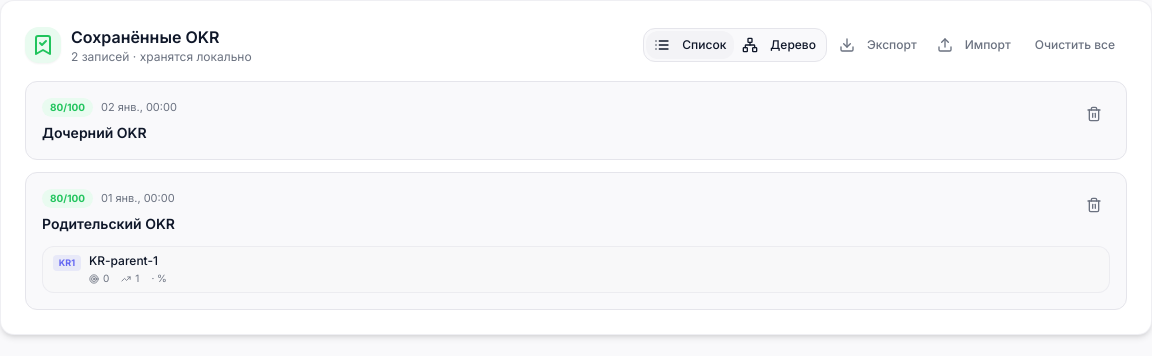
Test case: SavedOkrsList view mode toggle › переключатель Список/Дерево меняет отображение без потери items
Later steps or results of the test are not shown.
Check: the text "Родительский OKR" is shown, box [42,215,175,232]
Check: the text "Дочерний OKR" is shown, box [42,124,147,141]
Click the button "Дерево" at x=779, y=45, box [734,31,824,59]
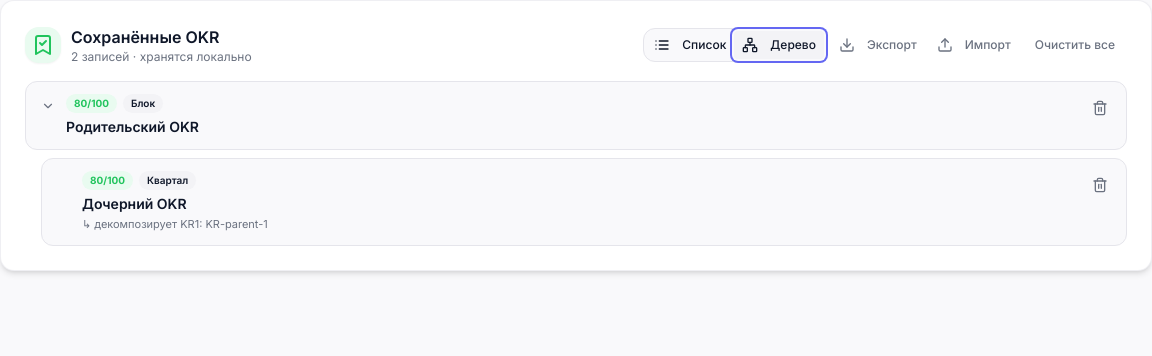
Check: the text "Родительский OKR" is shown, box [66,118,199,135]
Check: the text "↳ декомпозирует KR1: KR-parent-1" is shown, box [82,217,268,231]
